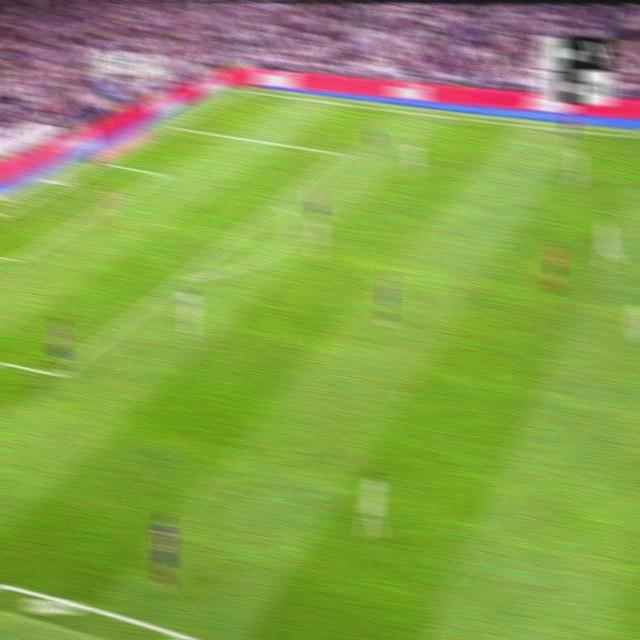bigarea_bottom_inner: (50, 368, 66, 382)
bigarea_top_inner: (333, 144, 348, 161)
bigarea_top_outter: (168, 119, 184, 132)
bottom_arc_area_intersection: (174, 269, 190, 287)
corner: (236, 83, 252, 96)
smallarea_top_inner: (156, 168, 168, 180)
top_arc_area_intersection: (271, 194, 286, 211)
